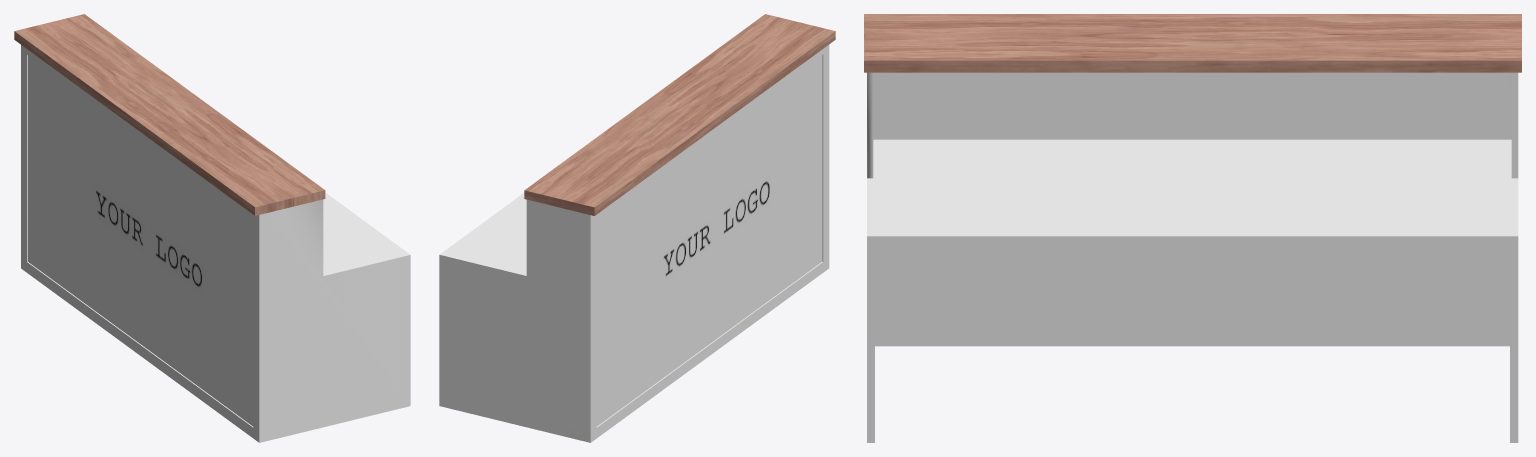
The model's file is reception_desk.glb.
3 views of the same model, side by side, from view 1: azimuth 30°, elevation 25°; view 2: azimuth 150°, elevation 25°; view 3: azimuth 270°, elevation 25° (orthographic). The views are drawn at different scales.
Parts seen in each view (by area): view 1: StandAccueil2_low; view 2: StandAccueil2_low; view 3: StandAccueil2_low.
Boxes of the visible parts, bbox=[...] form: StandAccueil2_low: bbox=[14, 14, 410, 442]; StandAccueil2_low: bbox=[439, 14, 835, 442]; StandAccueil2_low: bbox=[864, 14, 1521, 442].
Size of the model in its own units: 0.7455 by 1.08 by 1.99.
1 material, 1 textured.
